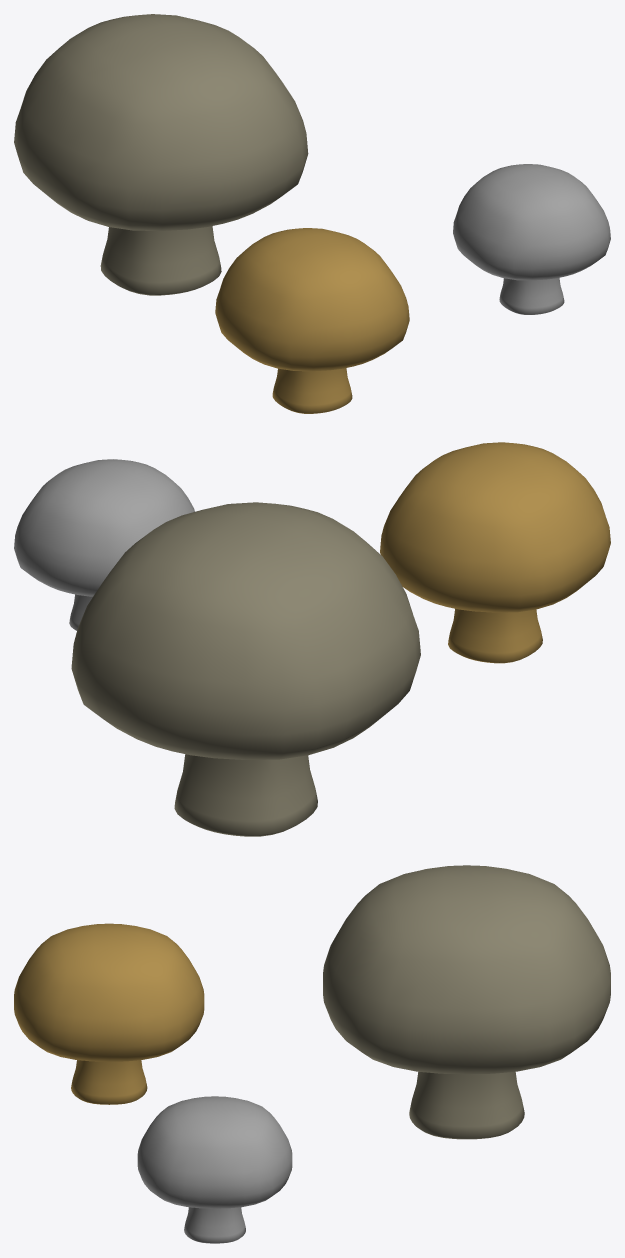
Rendered from ggg.glb.
3 views of the same model, one above another, from view 1: azimuth 30°, elevation 25°; view 2: azimuth 150°, elevation 25°; view 3: azimuth 270°, elevation 25° (orthographic). The views are drawn at different scales.
Visible parts, largest first — view 1: Box005, Box006, Box007; view 2: Box005, Box006, Box007; view 3: Box005, Box006, Box007.
Part boxes in pixels (x1,y1,x2,y2): Box005: (14,14,308,295); Box006: (215,228,409,413); Box007: (453,164,610,314); Box005: (71,502,420,836); Box006: (380,442,610,663); Box007: (14,459,194,630); Box005: (323,865,610,1139); Box006: (14,923,204,1104); Box007: (137,1096,292,1243).
Size of the model in its own units: 2.75 by 1.45 by 3.35.
